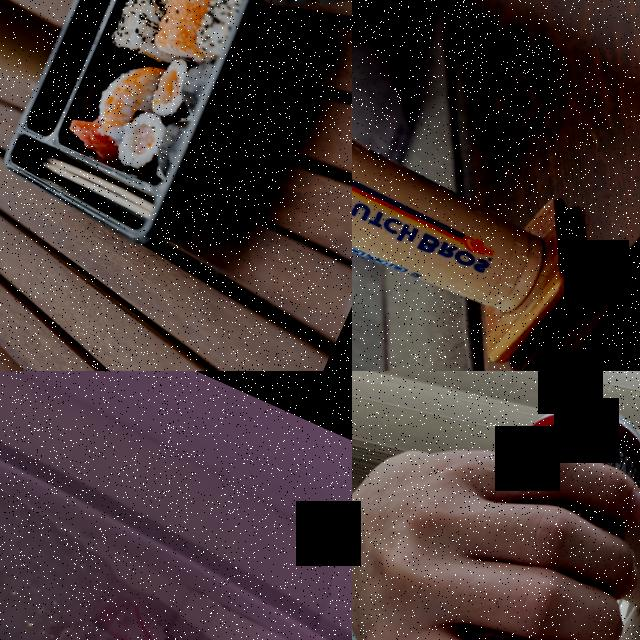bottle: (0, 390, 352, 640)
can: (352, 376, 640, 640)
cup: (352, 80, 565, 338), (0, 0, 67, 98)
